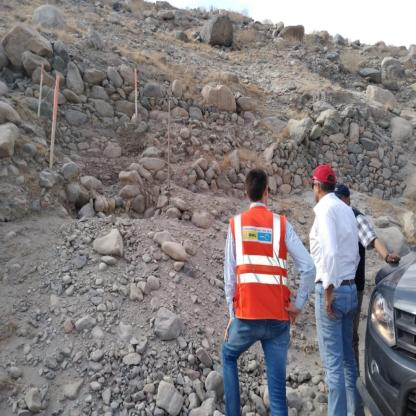person: (212, 157, 306, 416), (301, 153, 388, 413)
